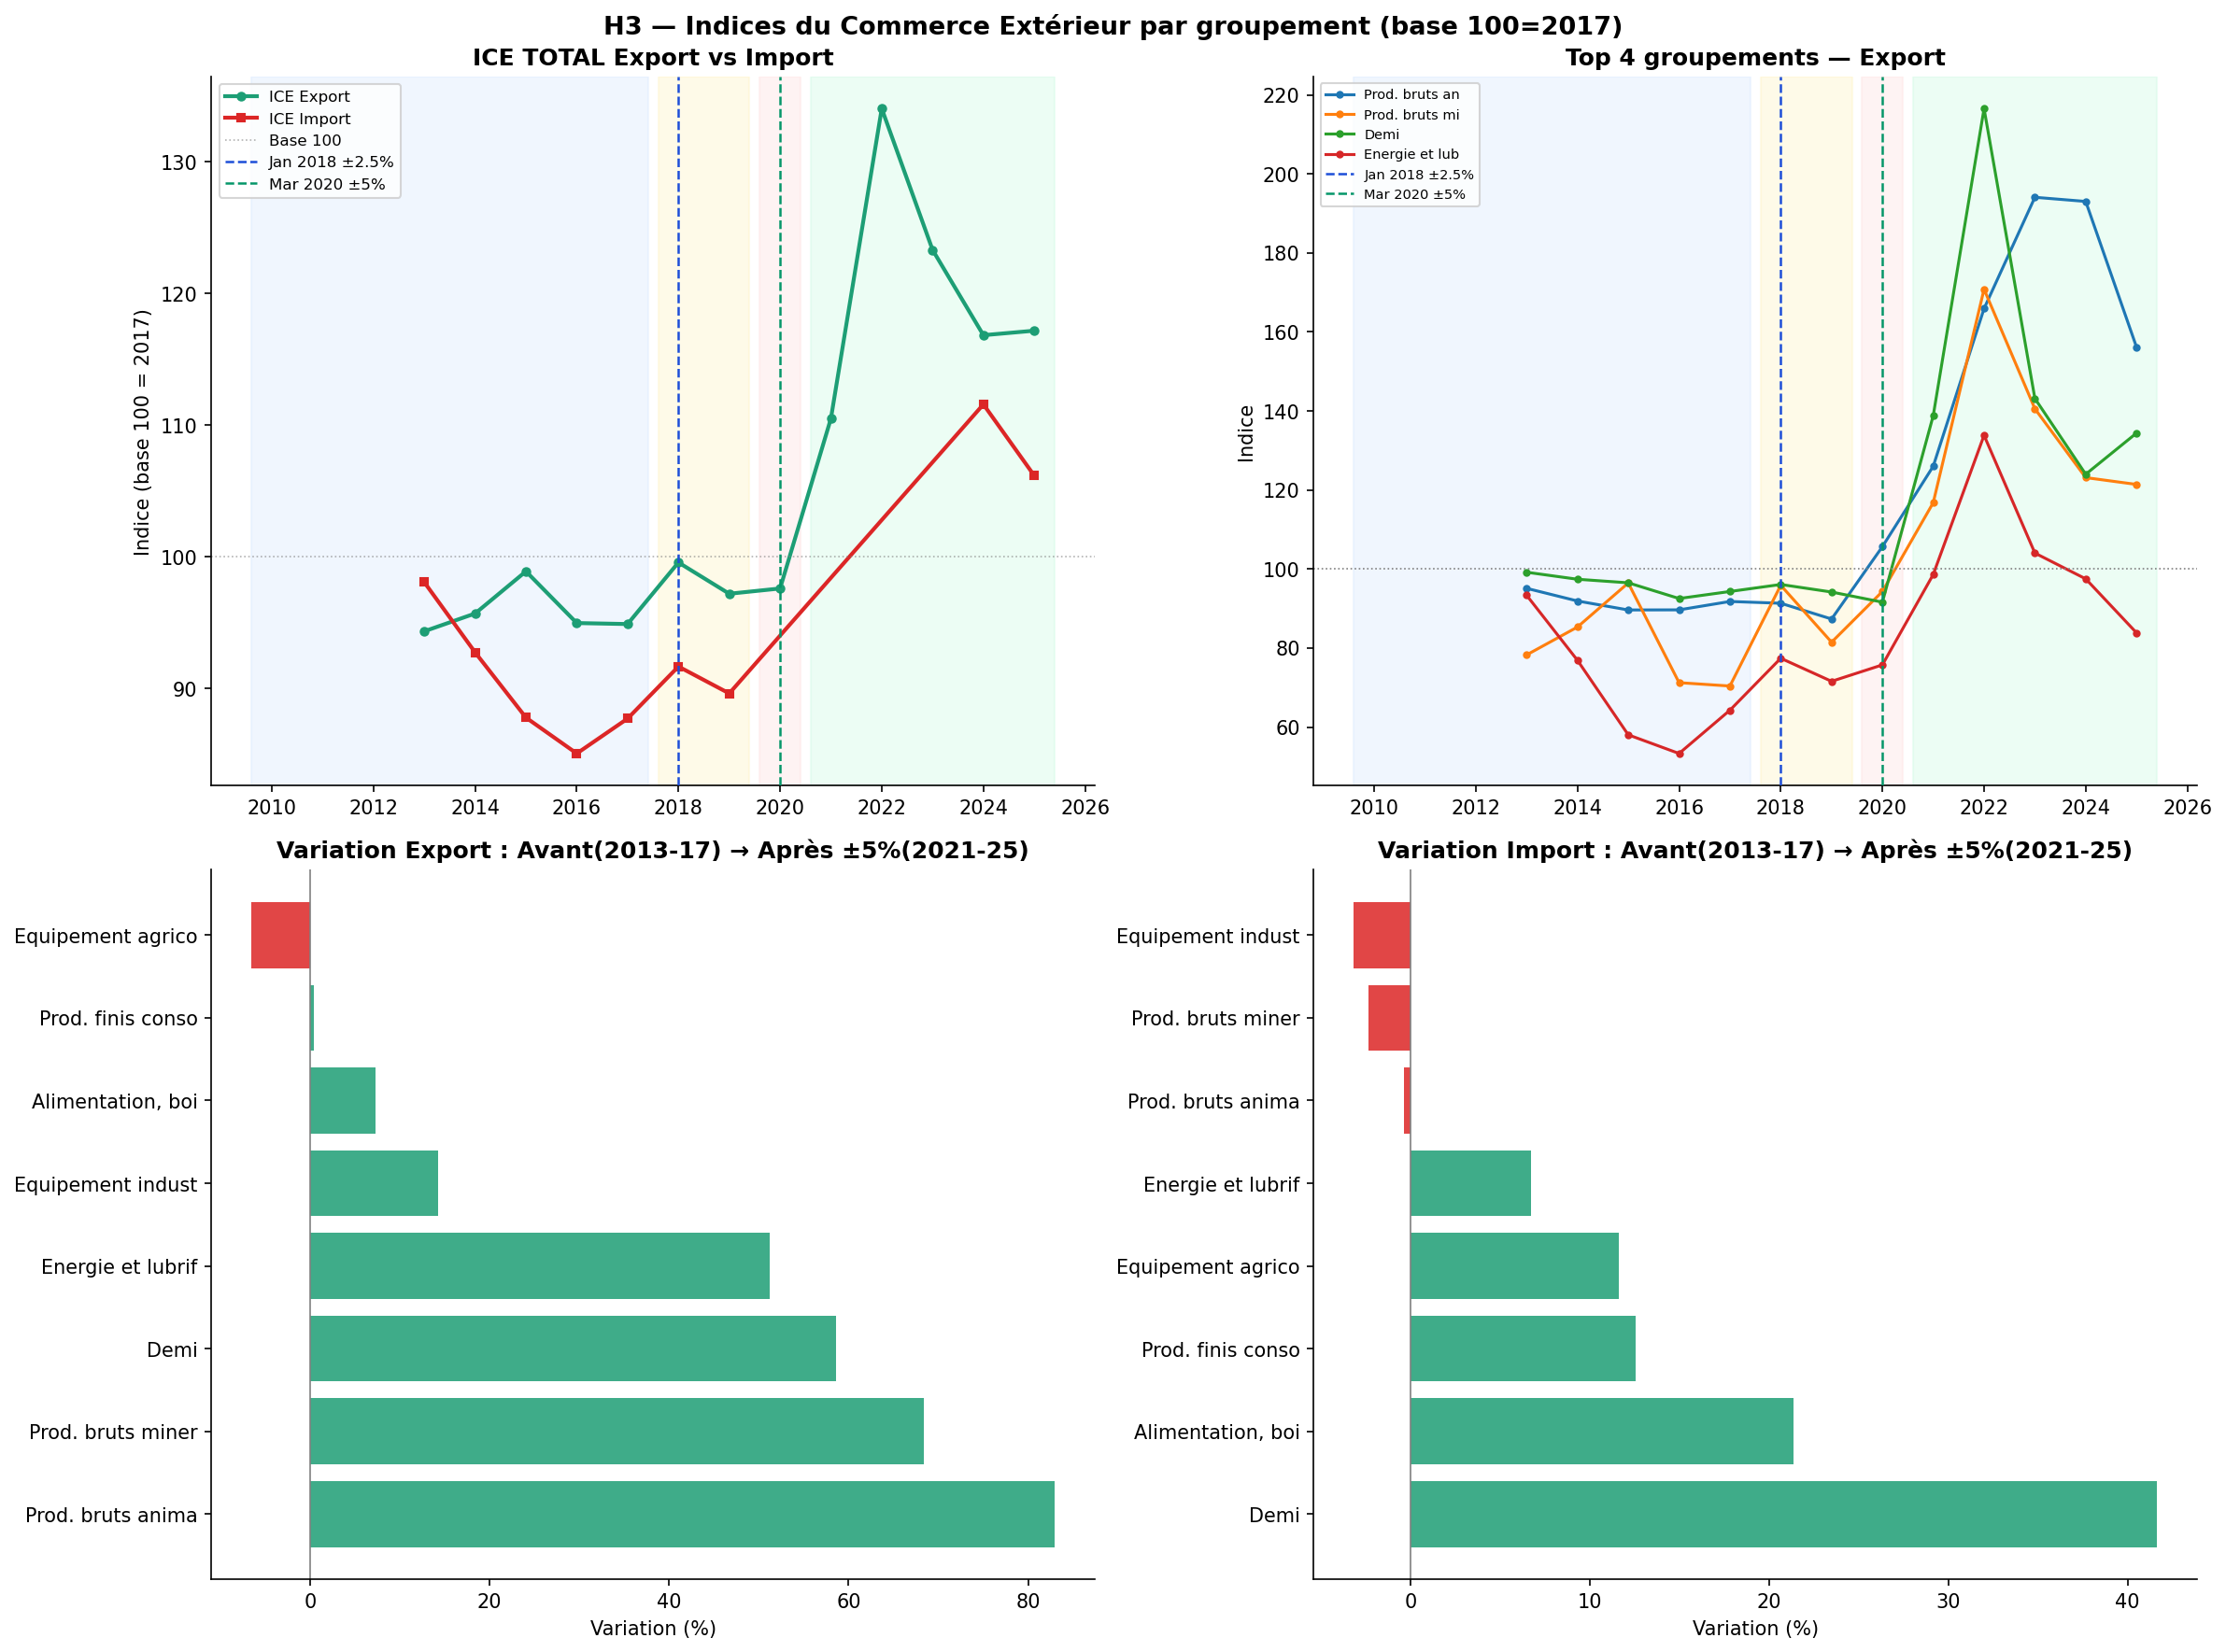

The dashboard page shown, as its layout file describes it:
{"tool":"powerbi","page":{"name":" H3 - Commerce extérieur","canvas":[1820,980],"ordinal":2},"visuals":[{"type":"shape","box":[0,0,275,980],"z":0},{"type":"textbox","box":[312,46,462,72],"z":1000},{"type":"card","fields":{"Values":["Mesures_comparaison.Balance_Mrd_Moy"]},"box":[360,144,230,90],"z":2000},{"type":"card","fields":{"Values":["Avg(fact_ice_annuel.Tx_couverture)"]},"box":[632,144,230,90],"z":3000},{"type":"card","fields":{"Values":["Avg(fact_ice_annuel.Exports_Mrd)"]},"box":[910,144,230,90],"z":4000},{"type":"card","fields":{"Values":["Avg(fact_ice_annuel. Imports_Mrd)"]},"box":[1180,144,230,90],"z":5000},{"type":"image","box":[2,0,288,202],"z":8000},{"type":"advancedSlicerVisual","fields":{"Values":["dim_date.Periode"]},"box":[1132,14,664,104],"z":10000},{"type":"advancedSlicerVisual","title":"Type","fields":{"Values":["fact_ice_trim.type"]},"box":[774,14,328,104],"z":11000},{"type":"slicer","title":"Année ","fields":{"Values":["dim_date.Year"]},"box":[1484,138,312,96],"z":11001},{"type":"areaChart","title":" Exports et Imports annuels en Mrd USD","fields":{"Category":["dim_date.Year"],"Y":["Sum(fact_ice_annuel. Imports_Mrd)","Sum(fact_ice_annuel.Exports_Mrd)"]},"box":[312,254,828,352],"z":11002},{"type":"clusteredBarChart","title":"Balance commerciale annuelle","fields":{"Y":["Sum(fact_ice_annuel.Balance_Mrd)"],"Category":["dim_date.Year"]},"box":[1156,254,640,352],"z":11003},{"type":"lineChart","title":"Taux de couverture","fields":{"Y":["Avg(fact_ice_annuel.Tx_couverture)"],"Category":["dim_date.Year"]},"box":[924,626,872,340],"z":11004},{"type":"donutChart","title":" ICE par groupement de produits","fields":{"Y":["Sum(fact_ice_trim.ICE_Index)"],"Category":["fact_ice_trim.Groupement"]},"box":[312,626,598,340],"z":11005},{"type":"pageNavigator","box":[8,244,258,736],"z":11006}]}

Visuals, with their boxes on the page's 1820x980 design canvas (x1, y1, x2, y2). These are canvas units, not pixel positions in the 2226x1652 screenshot, which may show the page scaled, cropped or inside an application window:
shape: <bbox>0, 0, 275, 980</bbox>
textbox: <bbox>312, 46, 774, 118</bbox>
card - Mesures_comparaison.Balance_Mrd_Moy: <bbox>360, 144, 590, 234</bbox>
card - Avg(fact_ice_annuel.Tx_couverture): <bbox>632, 144, 862, 234</bbox>
card - Avg(fact_ice_annuel.Exports_Mrd): <bbox>910, 144, 1140, 234</bbox>
card - Avg(fact_ice_annuel. Imports_Mrd): <bbox>1180, 144, 1410, 234</bbox>
image: <bbox>2, 0, 290, 202</bbox>
advancedSlicerVisual - dim_date.Periode: <bbox>1132, 14, 1796, 118</bbox>
"Type" advancedSlicerVisual: <bbox>774, 14, 1102, 118</bbox>
"Année " slicer: <bbox>1484, 138, 1796, 234</bbox>
" Exports et Imports annuels en Mrd USD" areaChart: <bbox>312, 254, 1140, 606</bbox>
"Balance commerciale annuelle" clusteredBarChart: <bbox>1156, 254, 1796, 606</bbox>
"Taux de couverture" lineChart: <bbox>924, 626, 1796, 966</bbox>
" ICE par groupement de produits" donutChart: <bbox>312, 626, 910, 966</bbox>
pageNavigator: <bbox>8, 244, 266, 980</bbox>
